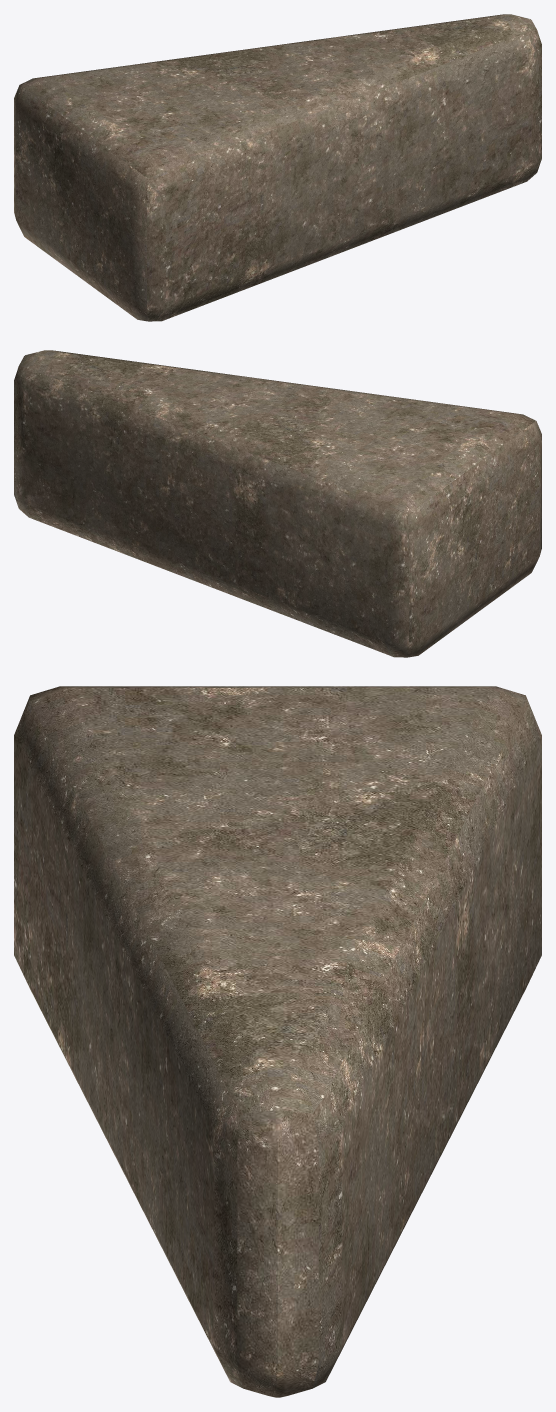
Rendered from mdl_franch_Snake_Tail.gltf.
The picture shows the model from 3 angles, top to bottom: view 1: azimuth 30°, elevation 25°; view 2: azimuth 150°, elevation 25°; view 3: azimuth 270°, elevation 25°; orthographic projection. The views are drawn at different scales.
Parts seen in each view (by area): view 1: Cube; view 2: Cube; view 3: Cube.
Part boxes in pixels (left/top/right/bottom): Cube: left=14, top=14, right=541, bottom=321; Cube: left=14, top=350, right=541, bottom=657; Cube: left=14, top=686, right=541, bottom=1397.
Bounding box in the file's own units: 1.47 × 0.496 × 0.7529.
Materials: 1 (1 with a texture image).
